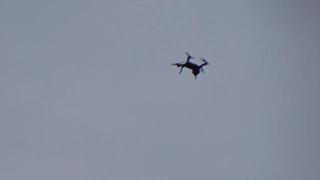UAV: (171, 52, 211, 80)
